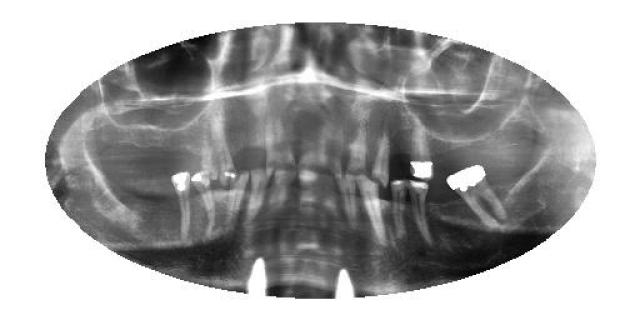Fillings: (448, 162, 508, 230), (190, 170, 218, 241), (170, 170, 191, 239), (410, 121, 434, 179)
